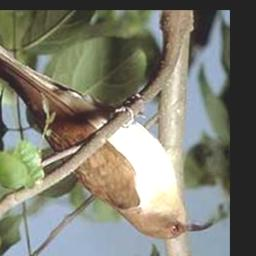Cuckoo: (0, 26, 215, 244)
